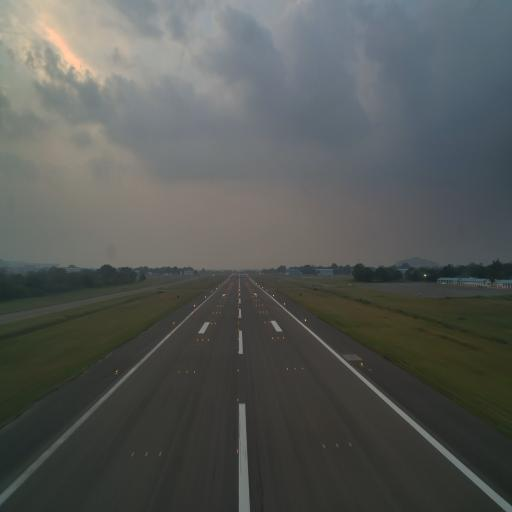on: (347, 438, 353, 448), (333, 442, 340, 450), (131, 448, 135, 458), (144, 448, 148, 458), (235, 448, 240, 456), (321, 442, 326, 450), (158, 450, 162, 459), (114, 369, 119, 375), (360, 359, 364, 366), (193, 370, 196, 376), (286, 366, 289, 372), (301, 365, 304, 371), (185, 370, 188, 375), (178, 370, 181, 374), (294, 366, 296, 372), (237, 368, 239, 373), (237, 397, 239, 402)
